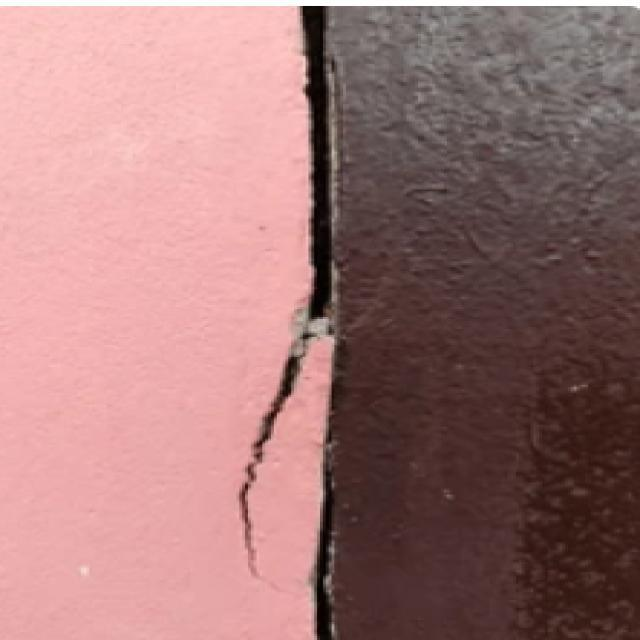branched cracks: (239, 6, 336, 639)
